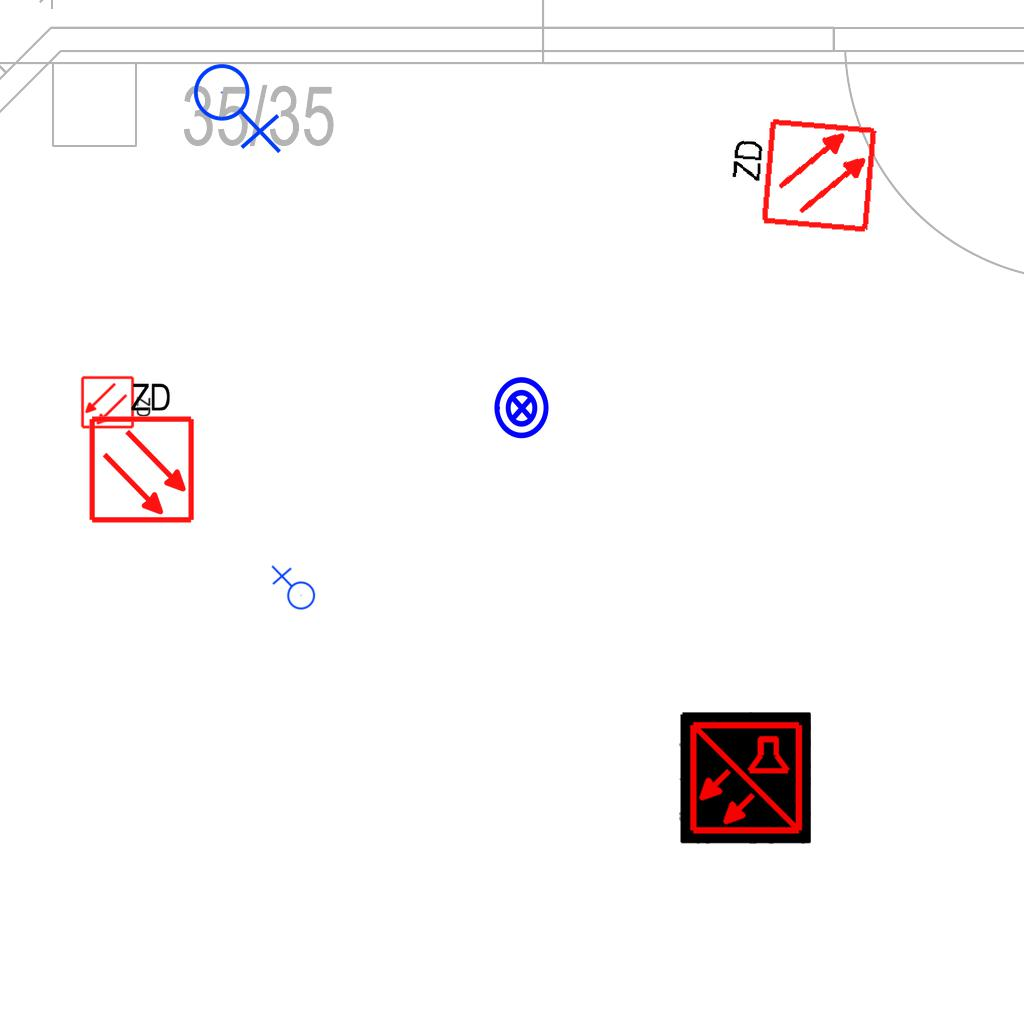Elektroanschluss_allgemein_230V_Geraeteanschlussdose_230V: (192, 55, 286, 154), (269, 565, 316, 614)
OKW_Multisensormelder_(Kombination_optischer_Rauch-Kahlenmonoxid_Waerme-Melder): (679, 712, 811, 844)
Taster_beleuchtet: (489, 375, 555, 441)
ZD_Melder_in_Zwischendecke_mit_Revisionsoeffnung_mind_40_x_40_cm: (720, 112, 880, 239), (83, 376, 197, 525), (80, 373, 154, 430)
